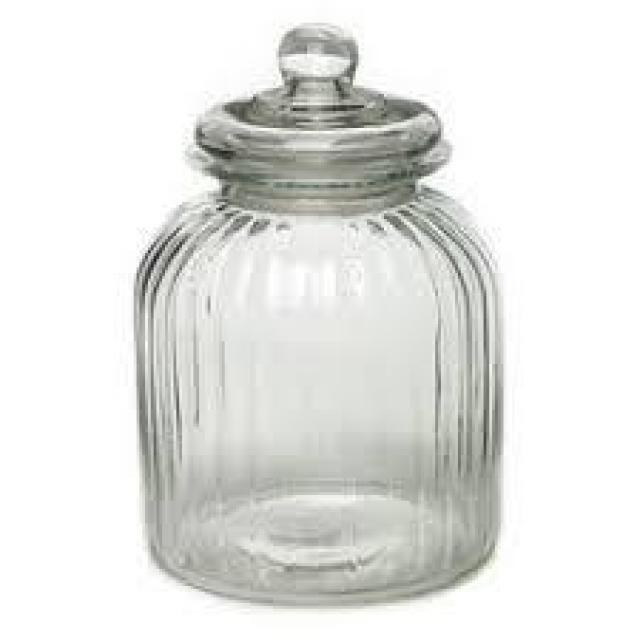non-organic waste: (128, 14, 509, 609)
